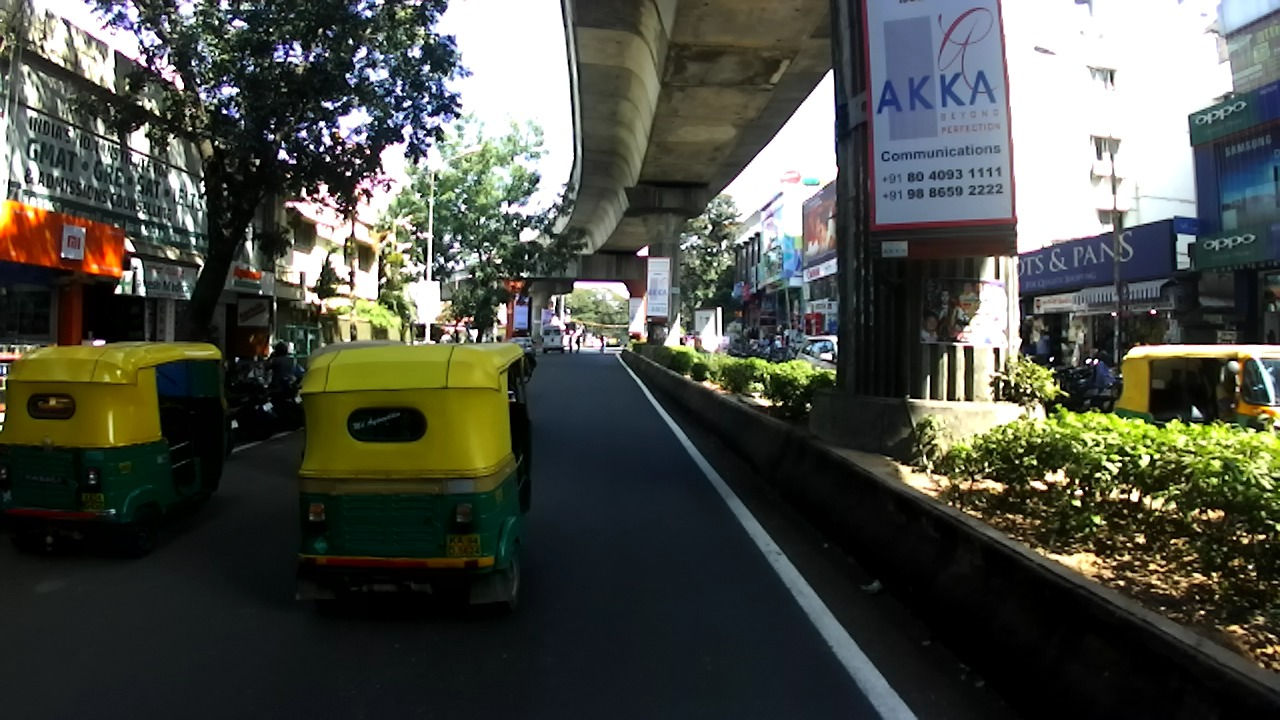autorickshaw: (292, 340, 537, 614), (1, 341, 239, 559), (1112, 343, 1279, 433)
car: (794, 336, 838, 374), (540, 324, 566, 353), (510, 336, 537, 356)
motorcycle: (211, 350, 274, 437), (241, 355, 306, 430), (1053, 356, 1123, 410), (207, 403, 238, 456), (767, 348, 799, 364), (731, 341, 754, 357), (754, 346, 773, 360), (1043, 357, 1056, 367)
person: (1037, 329, 1054, 359), (574, 326, 583, 352), (597, 331, 606, 354), (782, 326, 791, 347), (733, 329, 742, 345), (569, 329, 574, 352)
rider: (261, 338, 306, 397), (1093, 346, 1112, 388), (758, 334, 768, 350), (772, 337, 782, 349), (819, 329, 829, 334)
vehicle fallback: (684, 331, 728, 353), (559, 325, 582, 352), (606, 332, 620, 347), (584, 335, 600, 348)
